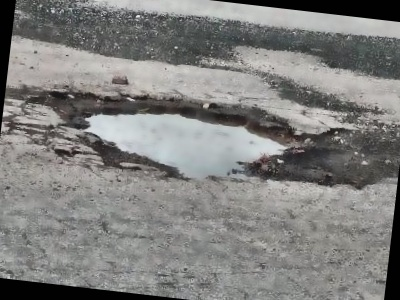pothole: (39, 75, 314, 193)
